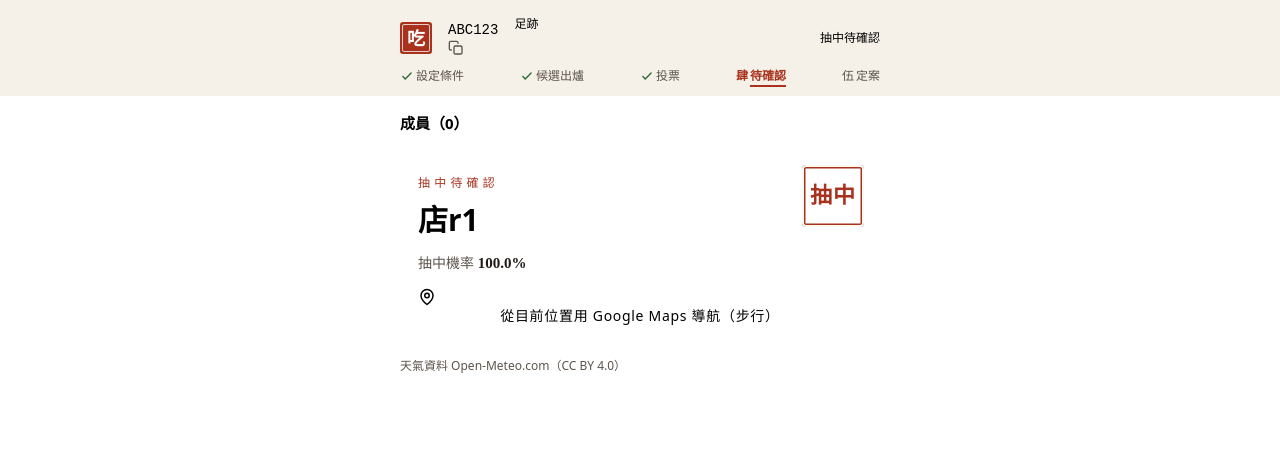
Test case: RoomPage 抽選與待確認 › 複製邀請連結失敗：請使用者手動記下邀請碼
This screenshot has width=1280, height=450.
Click the button with aria-label "邀請碼 ABC123" at (473, 38), box [442,16,504,60]
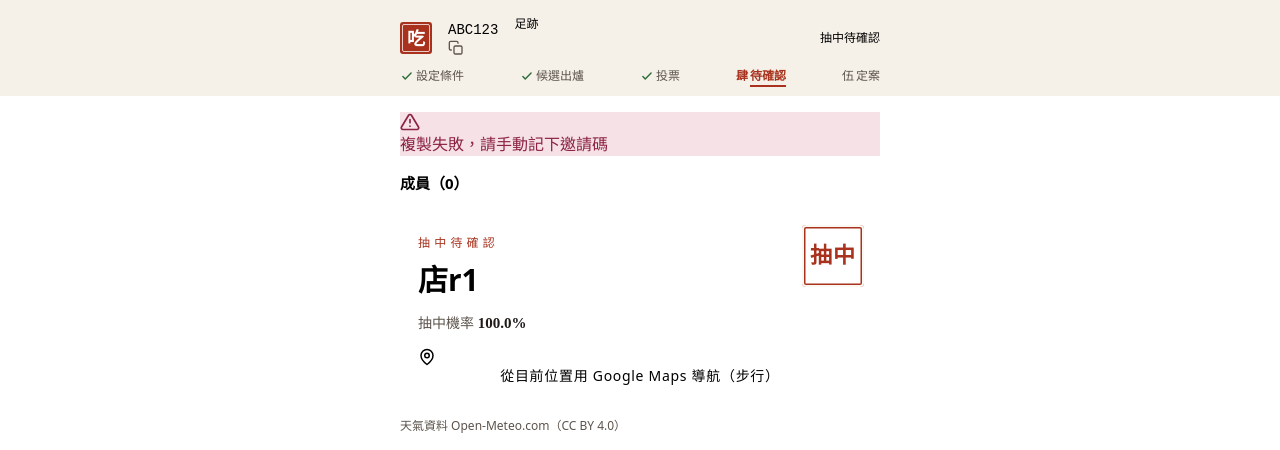
Expected: the text "複製失敗，請手動記下邀請碼" is shown, [400,133,608,155]
